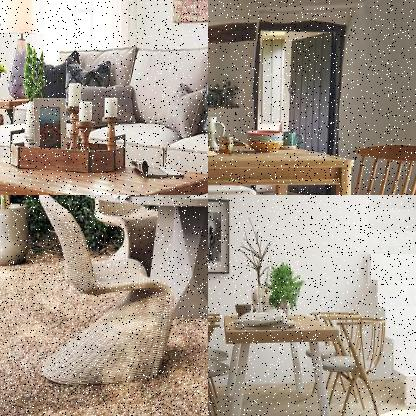table: (83, 195, 207, 323), (220, 305, 344, 415), (0, 137, 207, 194), (208, 129, 354, 194)
